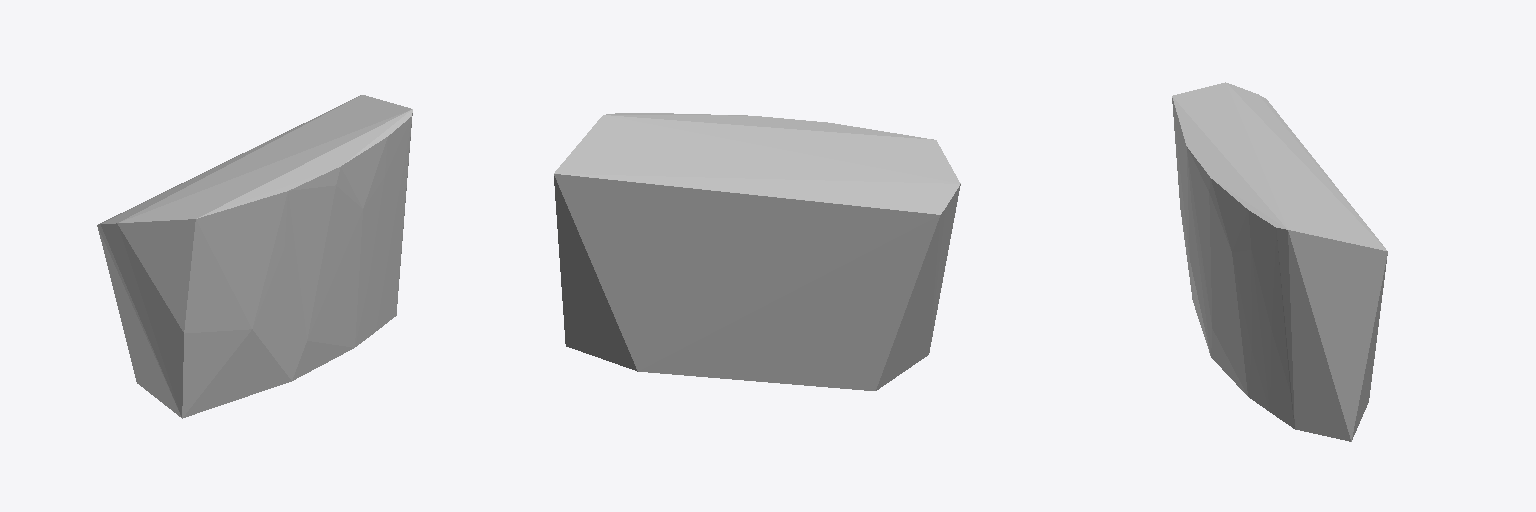
File: trash_bin_collision_25.obj
3 views of the same model, side by side, from view 1: azimuth 30°, elevation 25°; view 2: azimuth 150°, elevation 25°; view 3: azimuth 270°, elevation 25° (orthographic).
Bounding box in the file's own units: 0.0684 × 0.0411 × 0.0384.